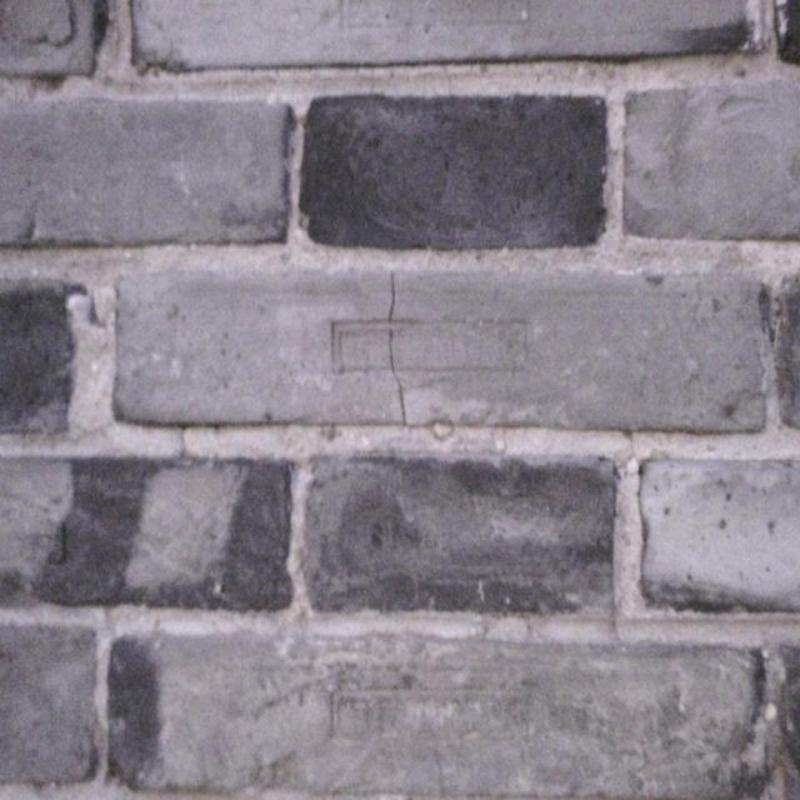pothole: (389, 273, 406, 424)
